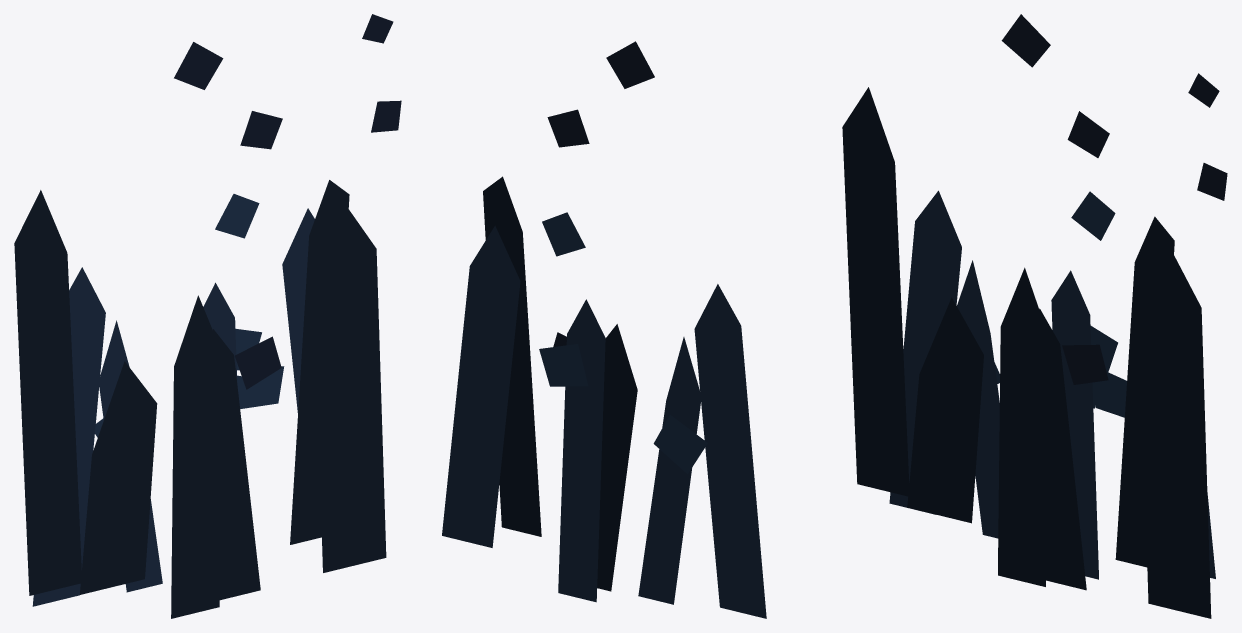
Rendered from incursao_ruinas.fbx.
3 renders of one model, left to right at view 1: azimuth 30°, elevation 25°; view 2: azimuth 150°, elevation 25°; view 3: azimuth 330°, elevation 25°, orthographic.
Visible parts, largest first — view 1: incursao_ruinas; view 2: incursao_ruinas; view 3: incursao_ruinas.
Part boxes in pixels (x1,y1,x2,y2): incursao_ruinas: (14, 14, 401, 618); incursao_ruinas: (442, 41, 766, 618); incursao_ruinas: (842, 14, 1227, 618).
Size of the model in its own units: 7.68 by 10.81 by 0.52.
